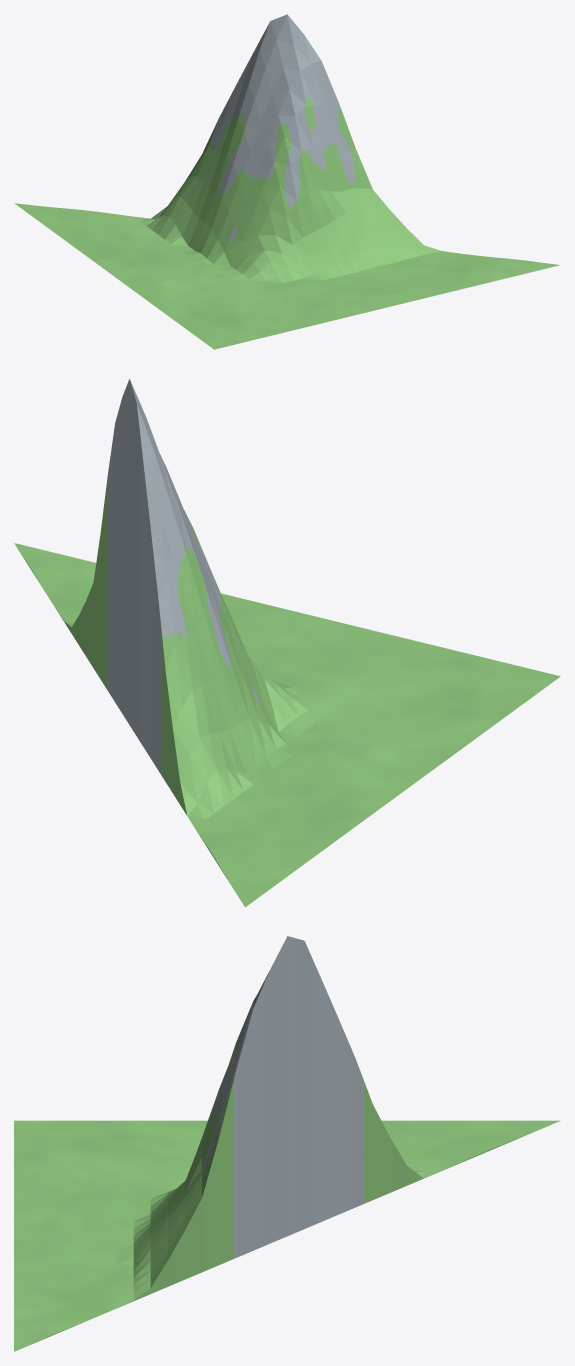
The model's file is Grass_RockyMountains_07_NW.obj.
The picture shows the model from 3 angles, top to bottom: view 1: azimuth 30°, elevation 25°; view 2: azimuth 150°, elevation 25°; view 3: azimuth 270°, elevation 25°; orthographic projection. The views are drawn at different scales.
Bounding box in the file's own units: 10 × 6.06 × 10.
Materials: 1 (1 with a texture image).
